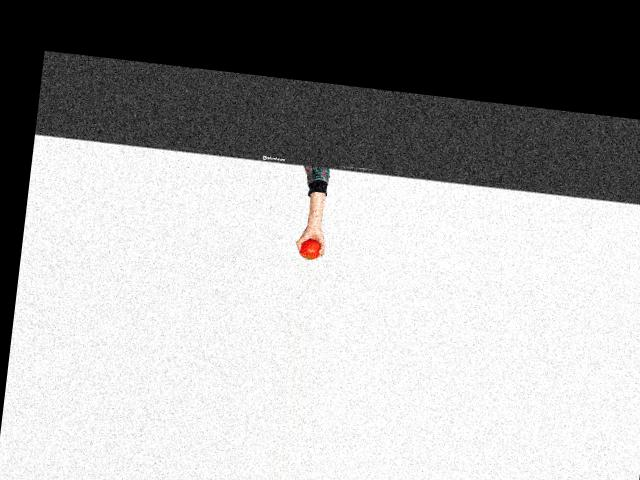tomato: (298, 238, 322, 261)
